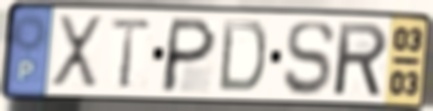D: (216, 17, 269, 95)
P: (158, 15, 220, 95)
R: (333, 20, 390, 99)
S: (281, 19, 337, 98)
T: (107, 16, 156, 92)
X: (48, 13, 105, 93)
